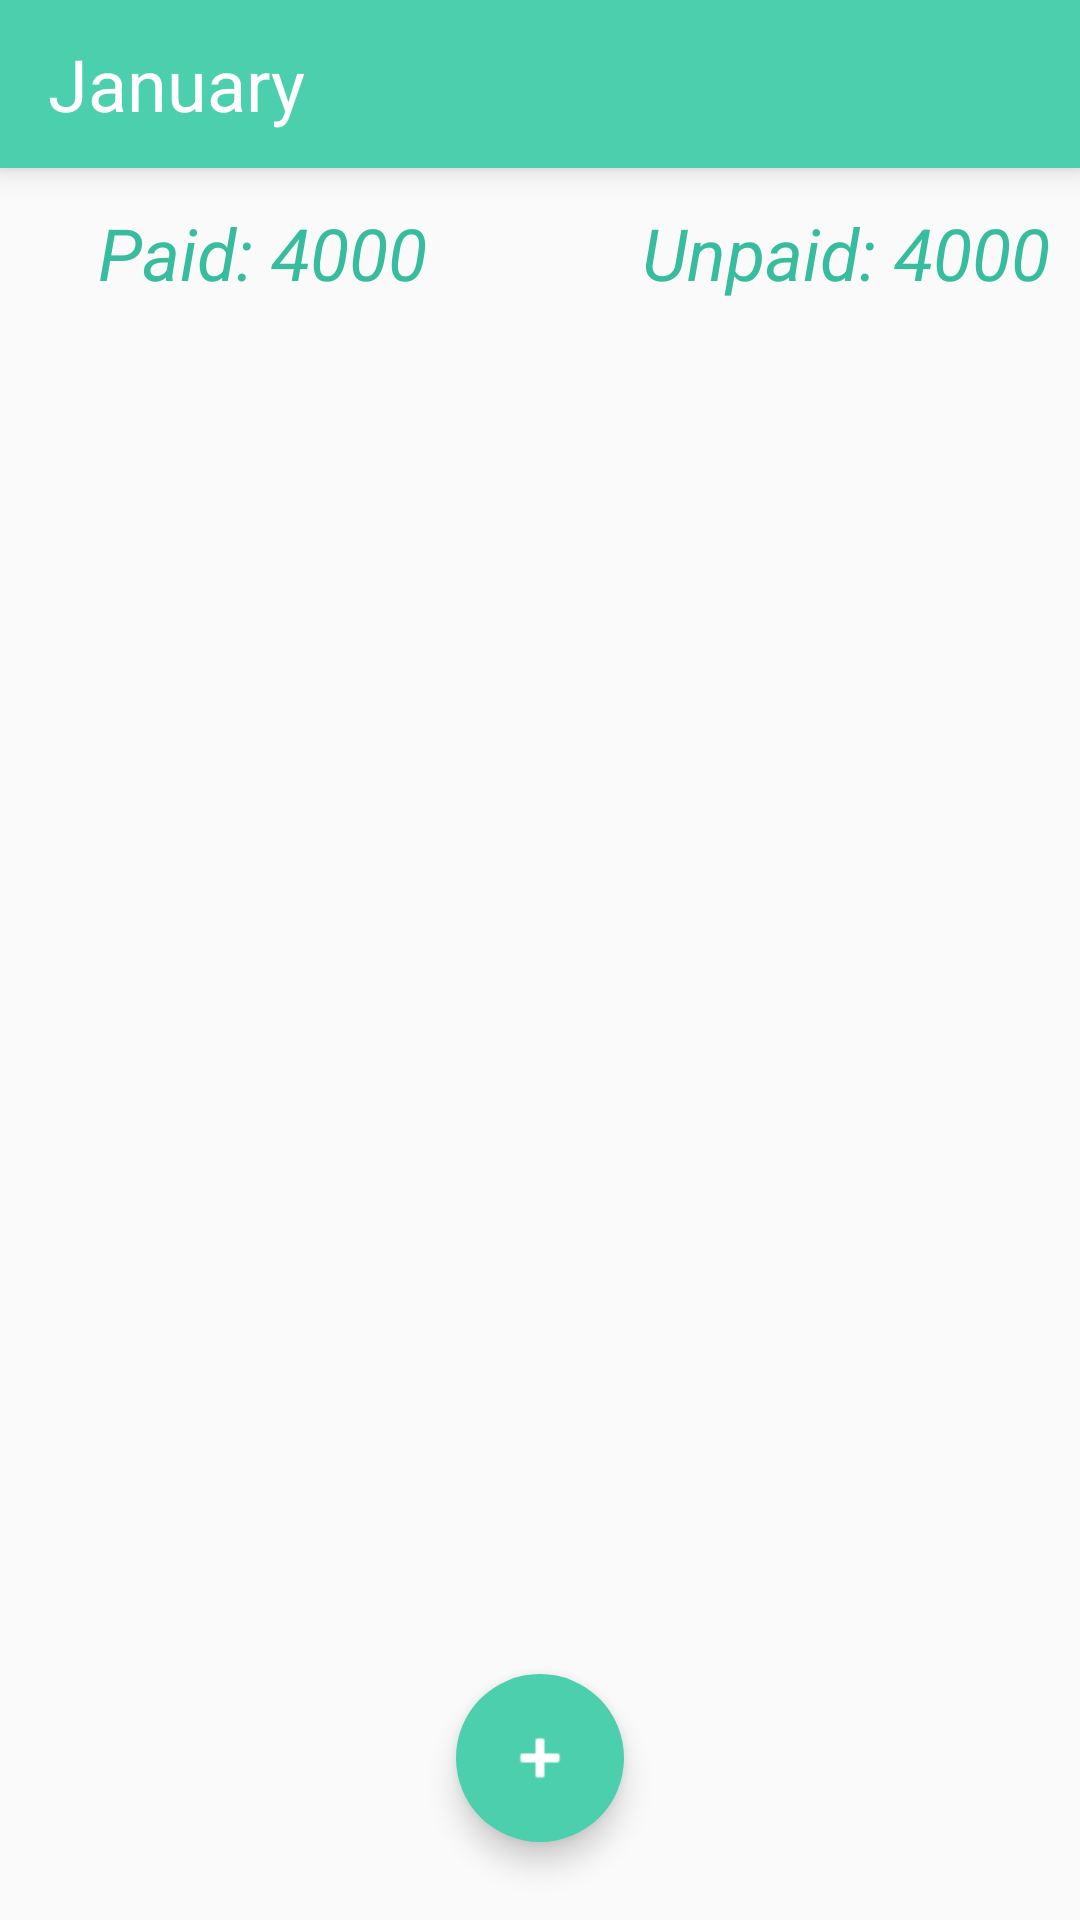

Point at icon controls on the screen. Image size 1080px×1920px, points as (x,y).
add: (540,1758)
